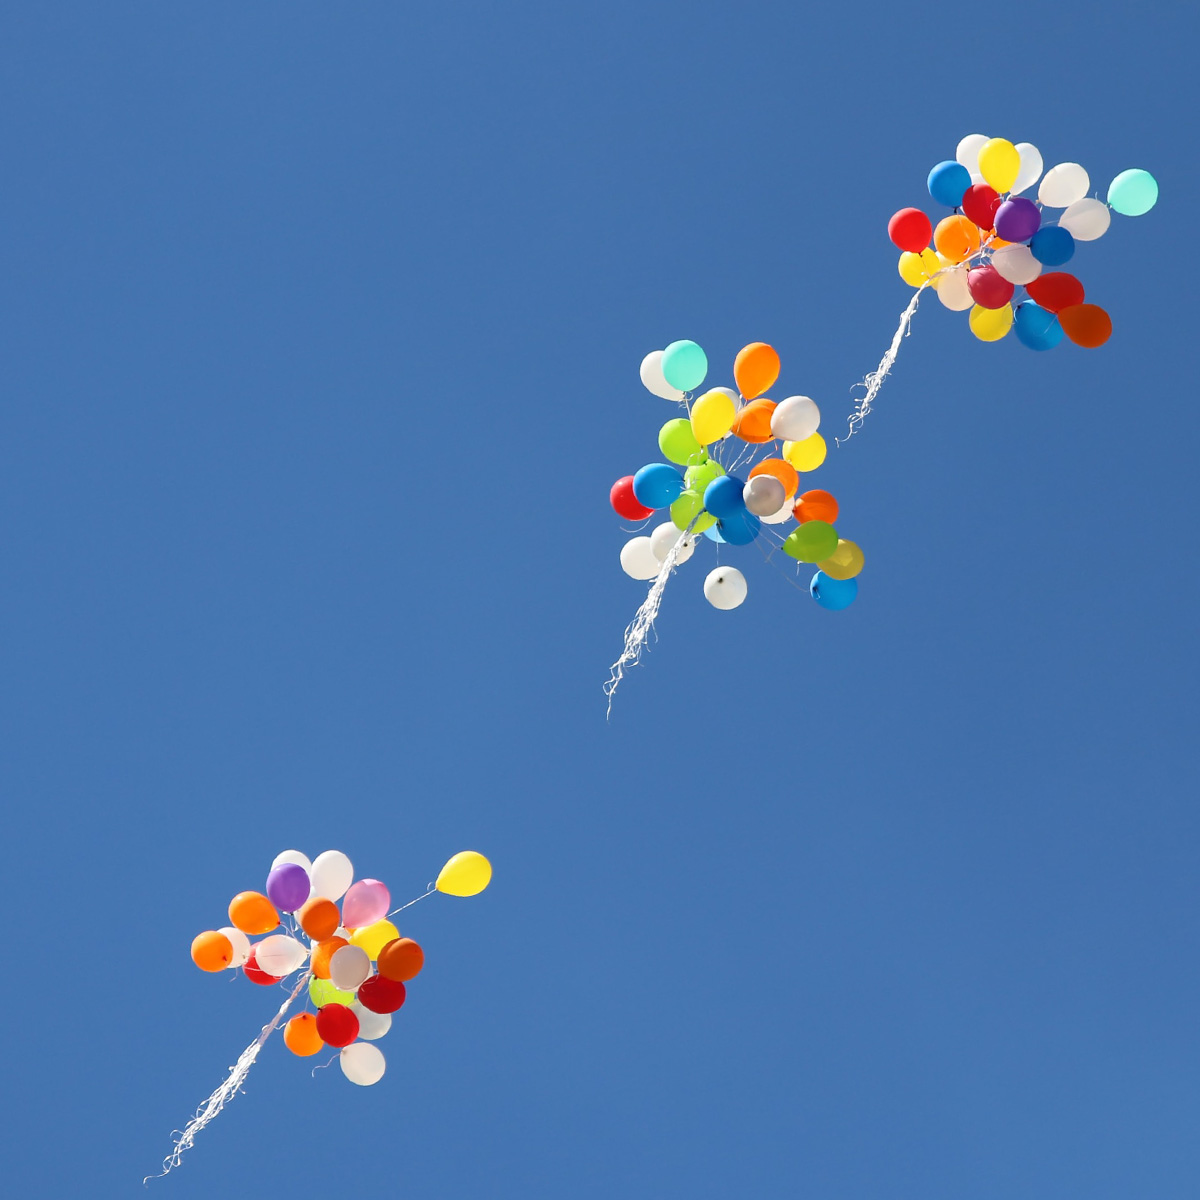Balloon: (435, 851, 492, 897), (734, 342, 780, 398), (341, 878, 390, 930), (1107, 168, 1158, 216), (227, 890, 282, 935), (632, 463, 685, 509), (1058, 303, 1112, 348), (1014, 299, 1062, 349), (662, 338, 708, 390), (690, 392, 735, 444), (1038, 162, 1090, 207), (770, 395, 820, 441), (1026, 273, 1084, 312), (784, 520, 837, 562), (933, 214, 981, 260), (310, 851, 353, 902), (926, 160, 971, 209), (255, 934, 307, 976), (979, 138, 1018, 195), (887, 207, 933, 252), (995, 197, 1040, 243), (1059, 198, 1108, 241), (267, 864, 309, 913), (377, 938, 424, 981), (811, 569, 858, 612), (991, 243, 1041, 284), (340, 1042, 385, 1086), (703, 566, 747, 611), (284, 1011, 326, 1057), (968, 266, 1014, 308), (316, 1003, 359, 1047), (704, 476, 747, 520), (651, 522, 695, 565), (330, 945, 370, 991), (358, 975, 405, 1014), (742, 474, 785, 516), (1029, 225, 1075, 265), (191, 930, 232, 973), (897, 247, 940, 287), (782, 434, 826, 473), (302, 897, 338, 941), (964, 185, 997, 233), (937, 268, 973, 311), (795, 490, 838, 524)
